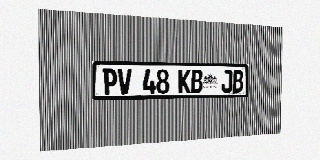4: (143, 69, 156, 94)
8: (156, 69, 169, 94)
B: (191, 70, 203, 93), (232, 70, 243, 92)
J: (221, 70, 232, 93)
K: (178, 69, 190, 93)
P: (103, 68, 117, 95)
V: (118, 69, 132, 94)
